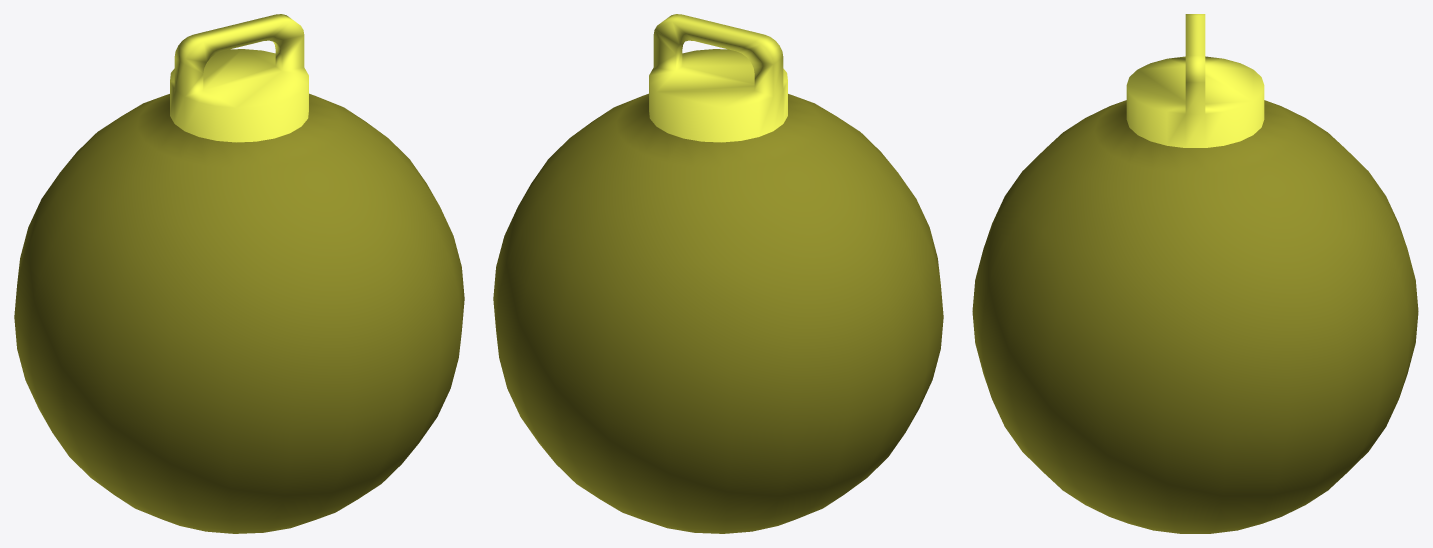
3 views of the same model, side by side, from view 1: azimuth 30°, elevation 25°; view 2: azimuth 150°, elevation 25°; view 3: azimuth 270°, elevation 25° (orthographic).
Parts seen in each view (by area): view 1: Sphere.003; view 2: Sphere.003; view 3: Sphere.003.
Boxes of the visible parts, x1,y1,x2,y2 form: Sphere.003: (14,14,464,533); Sphere.003: (493,14,943,533); Sphere.003: (972,14,1418,533).
Size of the model in its own units: 2515 by 3005 by 2542.
